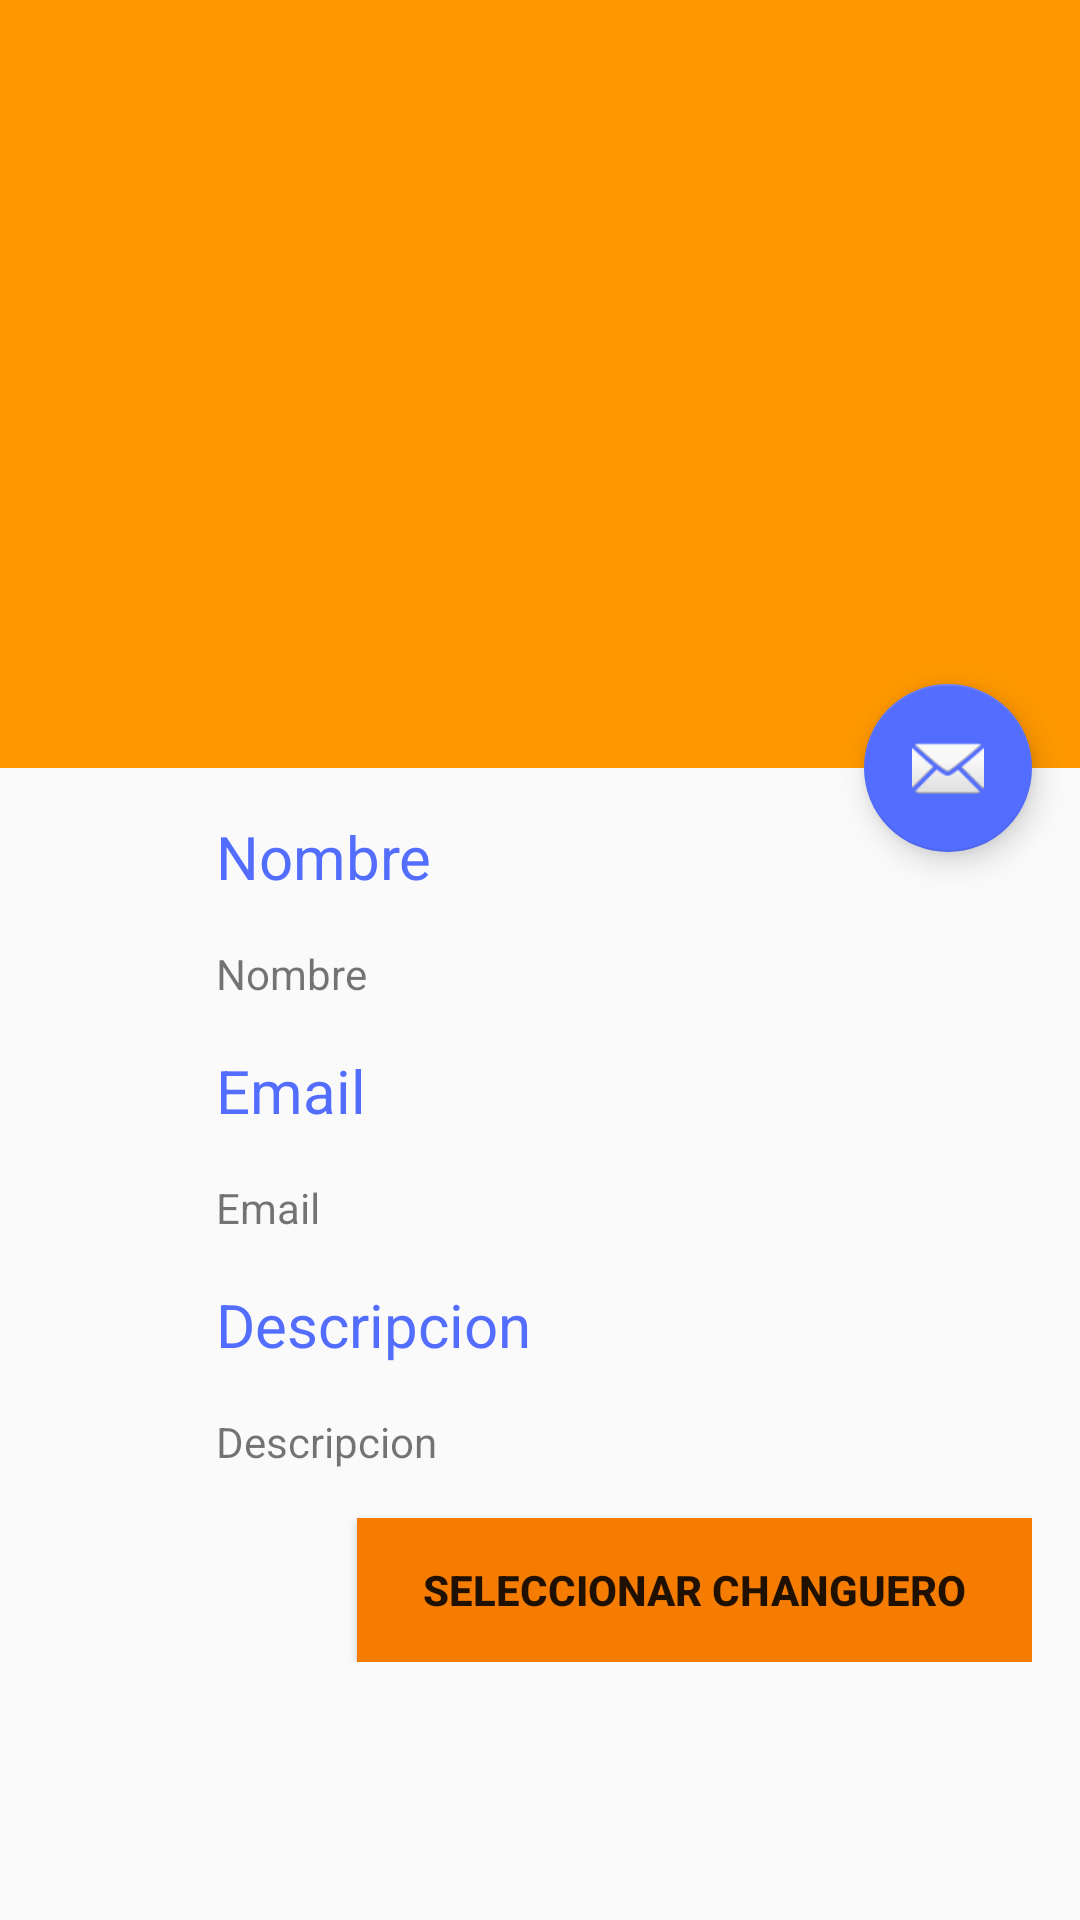

Icon click points for this 1080 x 1920 phone screenshot, format (x,y):
email: (948,768)
